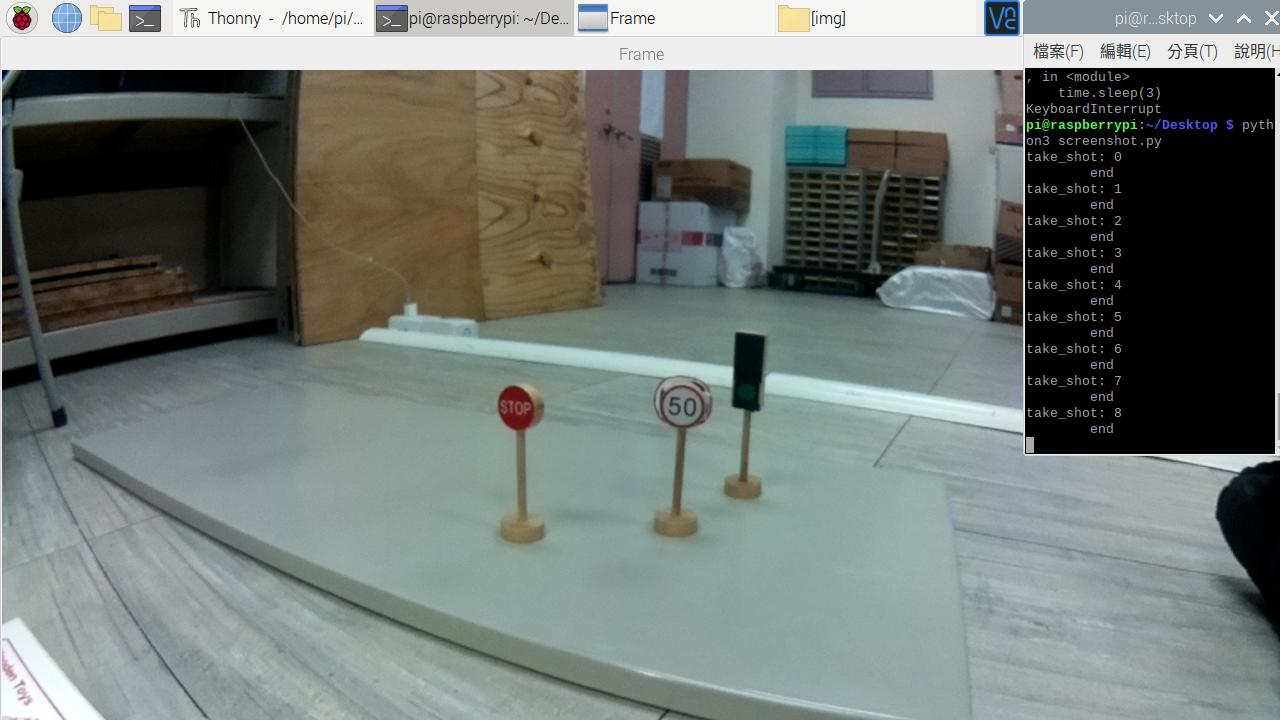Green: (729, 322, 763, 408)
Speed50: (658, 377, 705, 430)
Stop: (499, 383, 541, 434)
